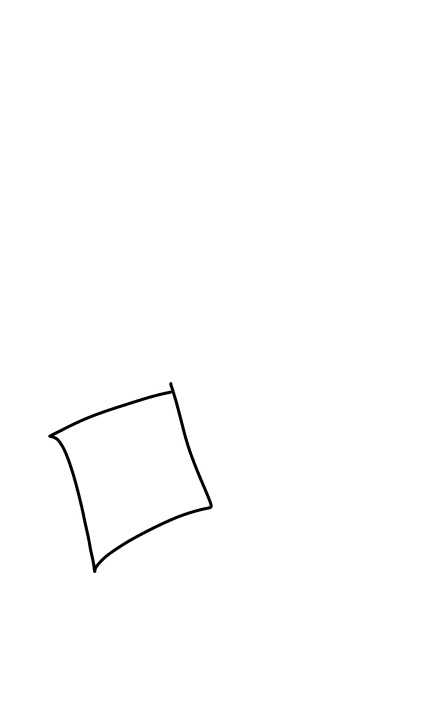Square: (44, 378, 219, 577)
